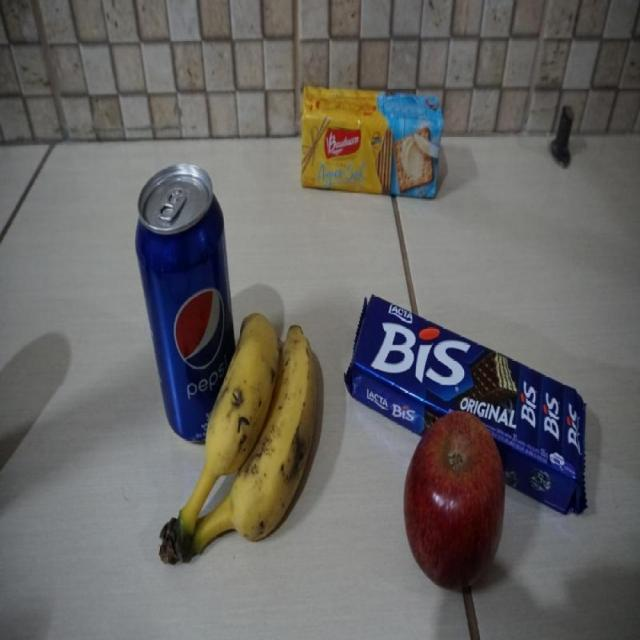Apple: (401, 410, 508, 596)
Banana: (158, 312, 318, 569)
Cracker: (300, 88, 444, 200)
SodaCan: (133, 162, 237, 445)
